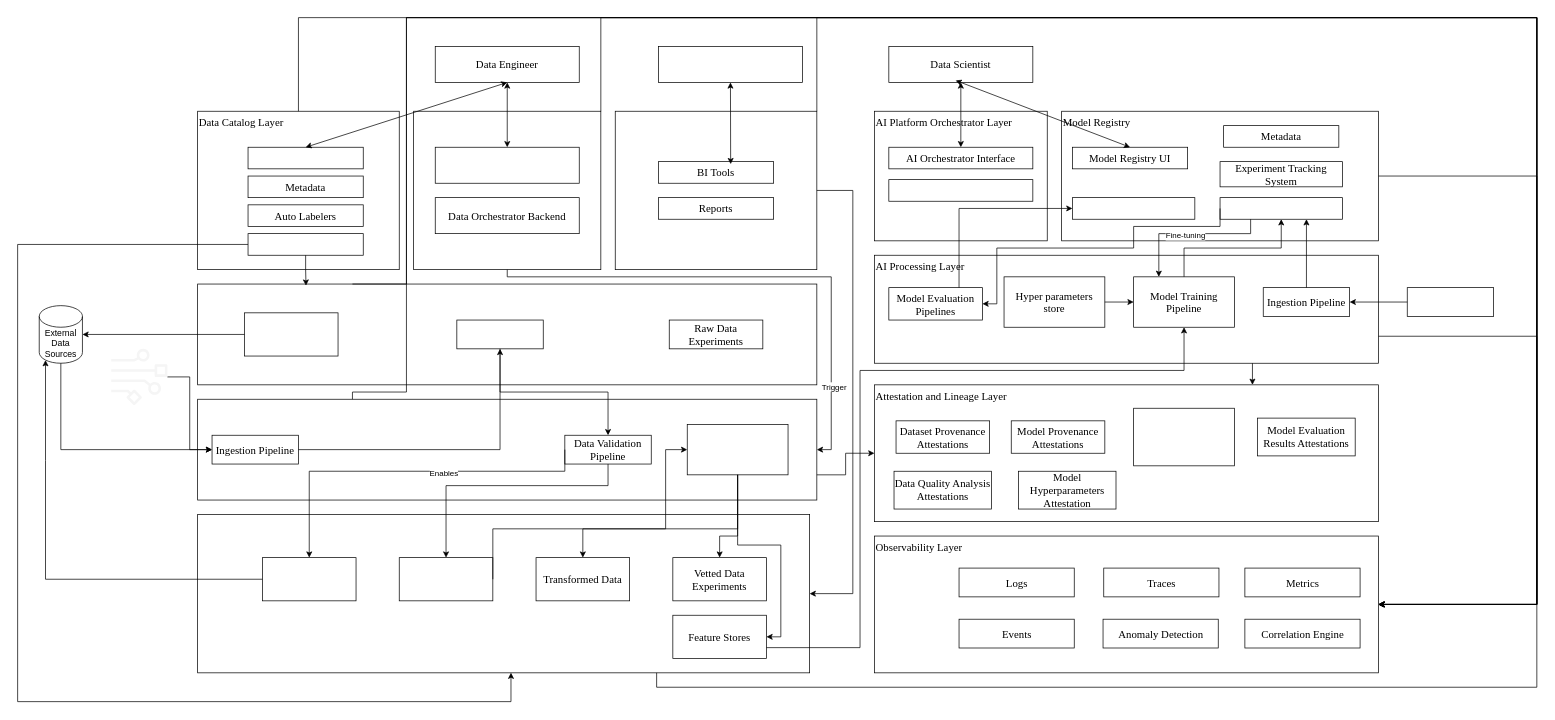
Some shapes in this 1555 by 720 pixel diagram are drawn without their labels. The box of each missing label's shape, as (x1, y1, x2, y2) in pixels:
3rd Party Models: (1407, 287, 1494, 316)
AI Orchestrator Backend: (888, 179, 1033, 201)
Business User: (658, 46, 802, 82)
Crawlers: (247, 233, 363, 255)
Data Catalog UI: (247, 147, 363, 169)
Data Landing Layer: (197, 283, 817, 385)
Data Landing Proxy: (244, 312, 338, 356)
Data Management Layer: (197, 514, 810, 673)
Data Management Proxy: (262, 557, 356, 601)
Data Orchestrator Interface: (435, 147, 579, 183)
Data Platform Orchestrator Layer: (413, 111, 601, 270)
Data Presentation Layer: (615, 111, 817, 270)
Data Processing Layer: (197, 399, 817, 500)
Data Transformation Code and Dependencies Attestations: (1133, 408, 1234, 466)
Data Transformation Pipelines: (687, 424, 788, 475)
Raw Data: (456, 319, 543, 349)
Streaming Processes: (111, 348, 167, 405)
Unvetted Model Artifacts: (1219, 197, 1342, 219)
Vetted Model Artifacts: (1072, 197, 1195, 219)
Vetted Raw Data: (399, 557, 493, 601)
